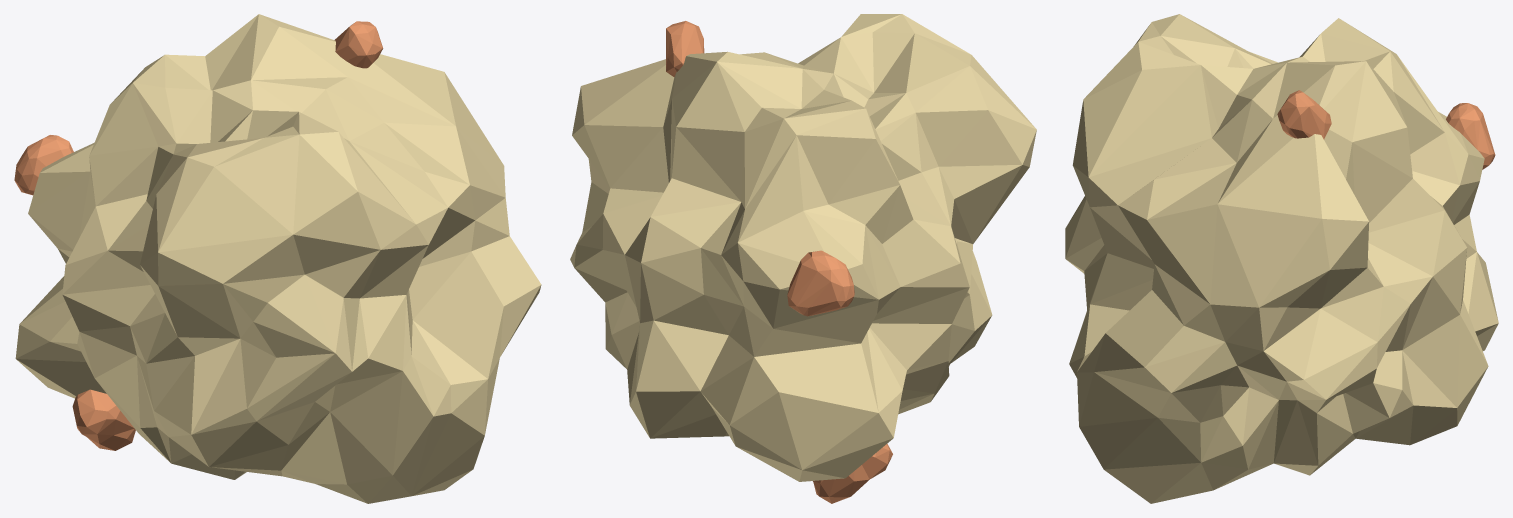
File: StoneOre (62).fbx
3 renders of one model, left to right at view 1: azimuth 30°, elevation 25°; view 2: azimuth 150°, elevation 25°; view 3: azimuth 270°, elevation 25°, orthographic. The views are drawn at different scales.
Parts seen in each view (by area): view 1: Asteroid349; view 2: Asteroid349; view 3: Asteroid349.
Part boxes in pixels (x1=…): Asteroid349: x1=14, y1=14, x2=541, y2=503; Asteroid349: x1=570, y1=14, x2=1036, y2=503; Asteroid349: x1=1065, y1=14, x2=1498, y2=503.
Bounding box in the file's own units: 372 × 357 × 340.
